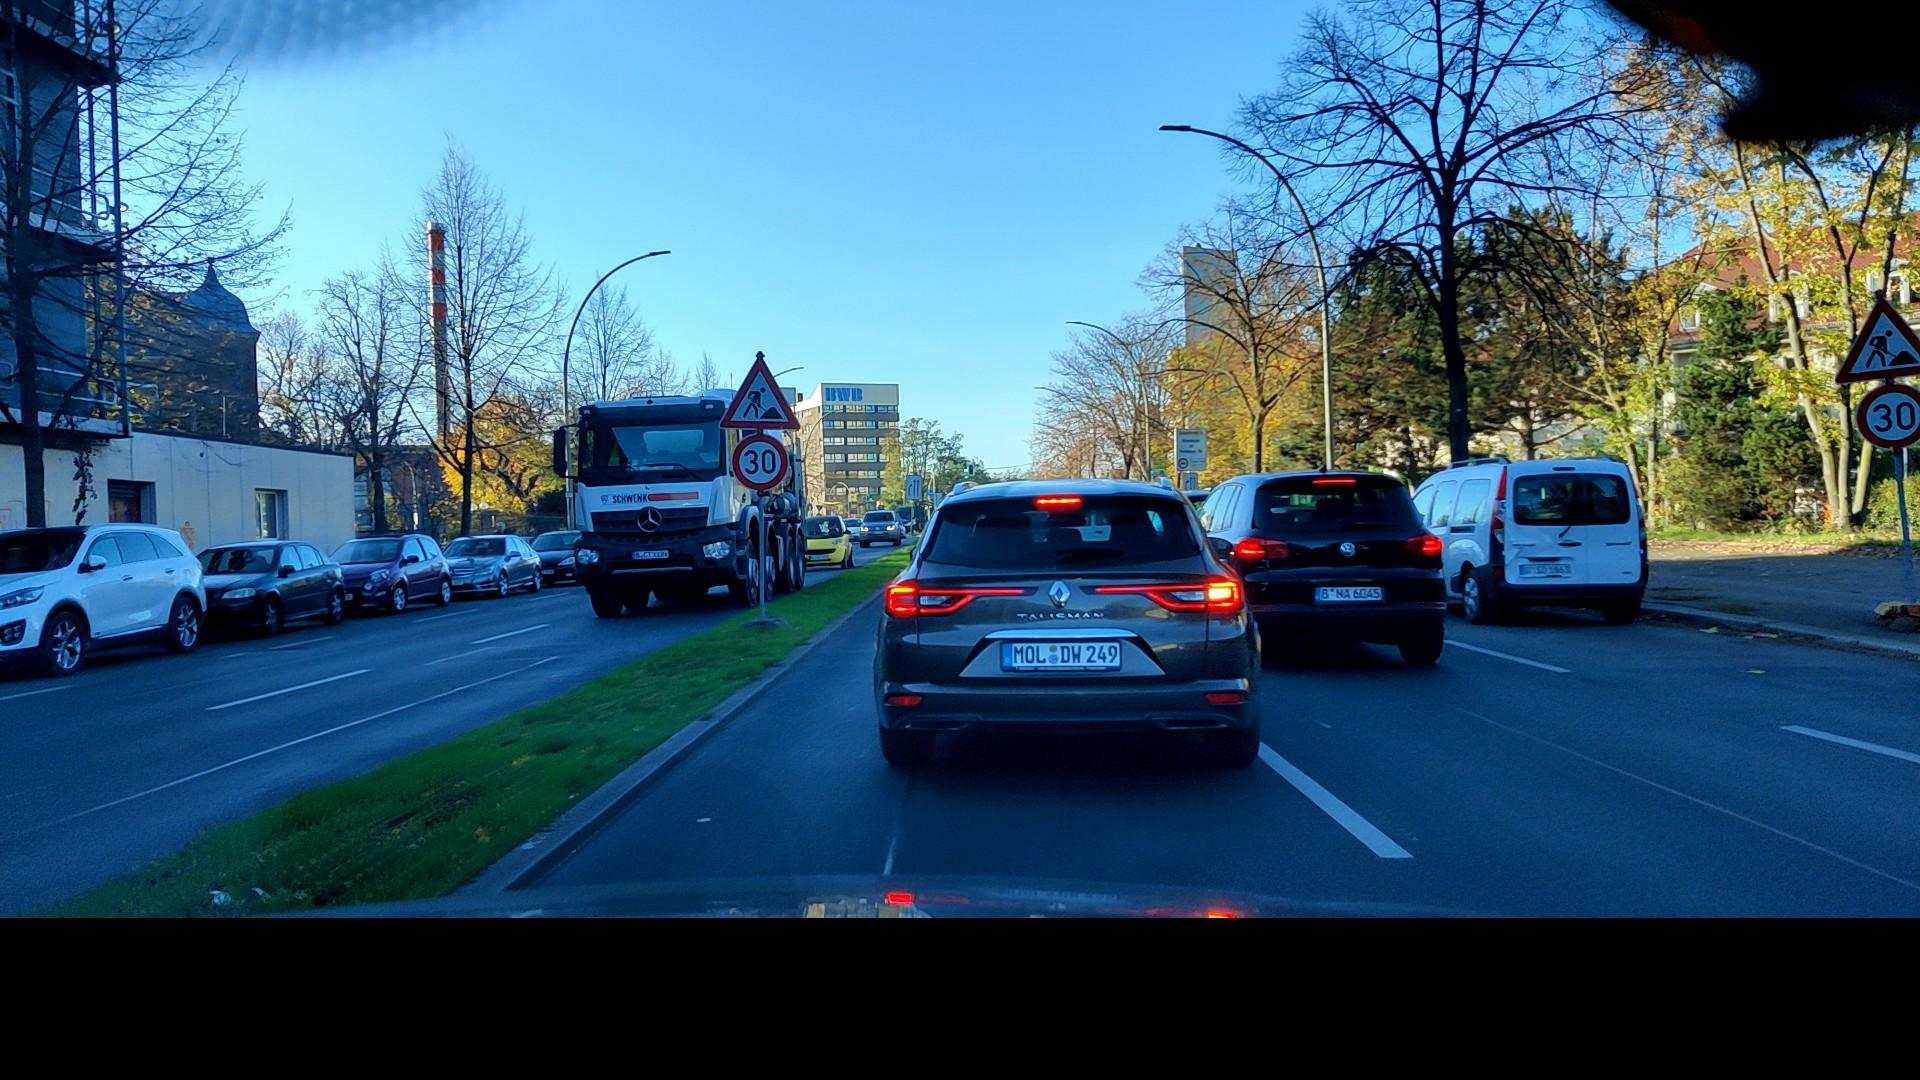Vehicle registration plate: (1001, 642, 1122, 673), (1315, 584, 1383, 604), (1519, 563, 1573, 577), (630, 550, 669, 561), (808, 555, 829, 560)
